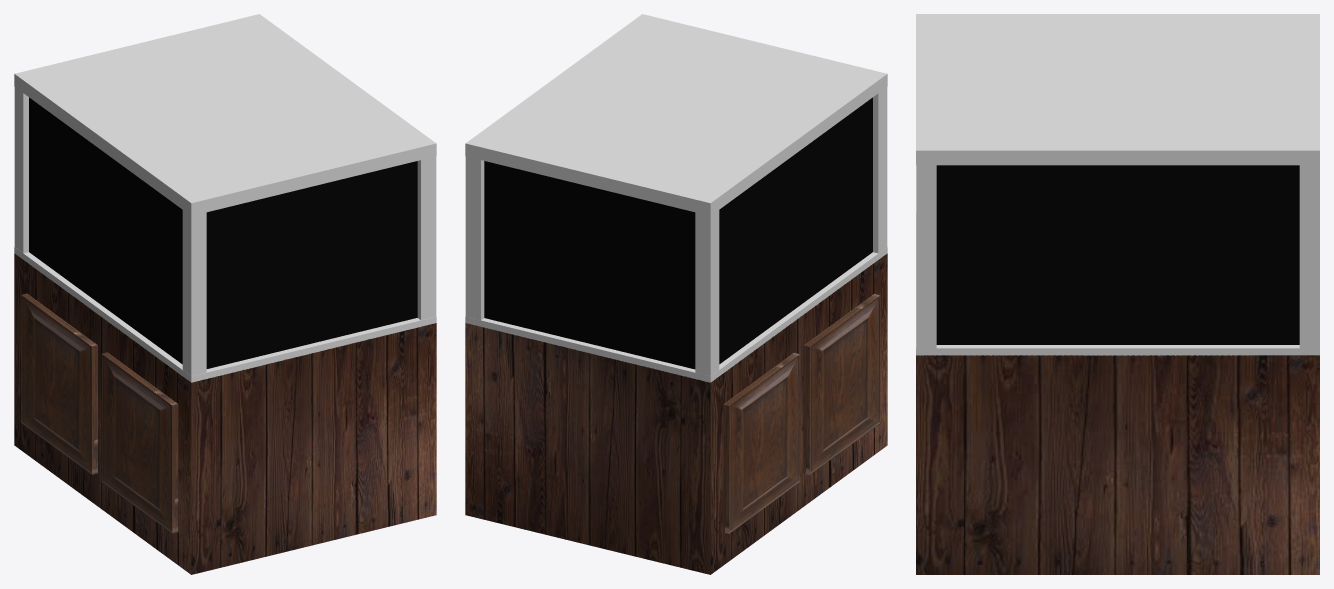
Rendered from FishTank.fbx.
The picture shows the model from 3 angles, left to right: view 1: azimuth 30°, elevation 25°; view 2: azimuth 150°, elevation 25°; view 3: azimuth 270°, elevation 25°; orthographic projection. The views are drawn at different scales.
Parts seen in each view (by area): view 1: pCube10, pCube15, pCube8, pCube7, pCube12, pCube11, pCube1, pCube2, pCube3, pCube4; view 2: pCube10, pCube15, pCube9, pCube7, pCube12, pCube11, pCube1, pCube4, pCube5, pCube2; view 3: pCube10, pCube6, pCube15, pCube1, pCube3, pCube5.
Boxes of the visible parts, left/top/right/bottom form: pCube10: left=14, top=253, right=436, bottom=574; pCube15: left=14, top=14, right=436, bottom=215; pCube8: left=206, top=161, right=417, bottom=368; pCube7: left=29, top=97, right=182, bottom=364; pCube12: left=101, top=352, right=178, bottom=533; pCube11: left=21, top=293, right=97, bottom=474; pCube1: left=14, top=247, right=436, bottom=382; pCube2: left=182, top=210, right=206, bottom=376; pCube3: left=417, top=156, right=436, bottom=319; pCube4: left=14, top=87, right=28, bottom=253; pCube10: left=465, top=253, right=887, bottom=574; pCube15: left=465, top=14, right=887, bottom=215; pCube9: left=484, top=161, right=695, bottom=369; pCube7: left=719, top=97, right=872, bottom=364; pCube12: left=803, top=293, right=880, bottom=474; pCube11: left=723, top=352, right=799, bottom=533; pCube1: left=465, top=247, right=887, bottom=382; pCube4: left=695, top=210, right=719, bottom=376; pCube5: left=465, top=156, right=484, bottom=320; pCube2: left=873, top=87, right=887, bottom=253; pCube10: left=916, top=355, right=1319, bottom=574; pCube6: left=936, top=165, right=1299, bottom=344; pCube15: left=916, top=14, right=1319, bottom=165; pCube1: left=916, top=212, right=1319, bottom=355; pCube3: left=916, top=165, right=936, bottom=348; pCube5: left=1299, top=165, right=1319, bottom=348.
Size of the model in its own units: 8.2 by 11.59 by 10.
12 materials, 4 textured.
